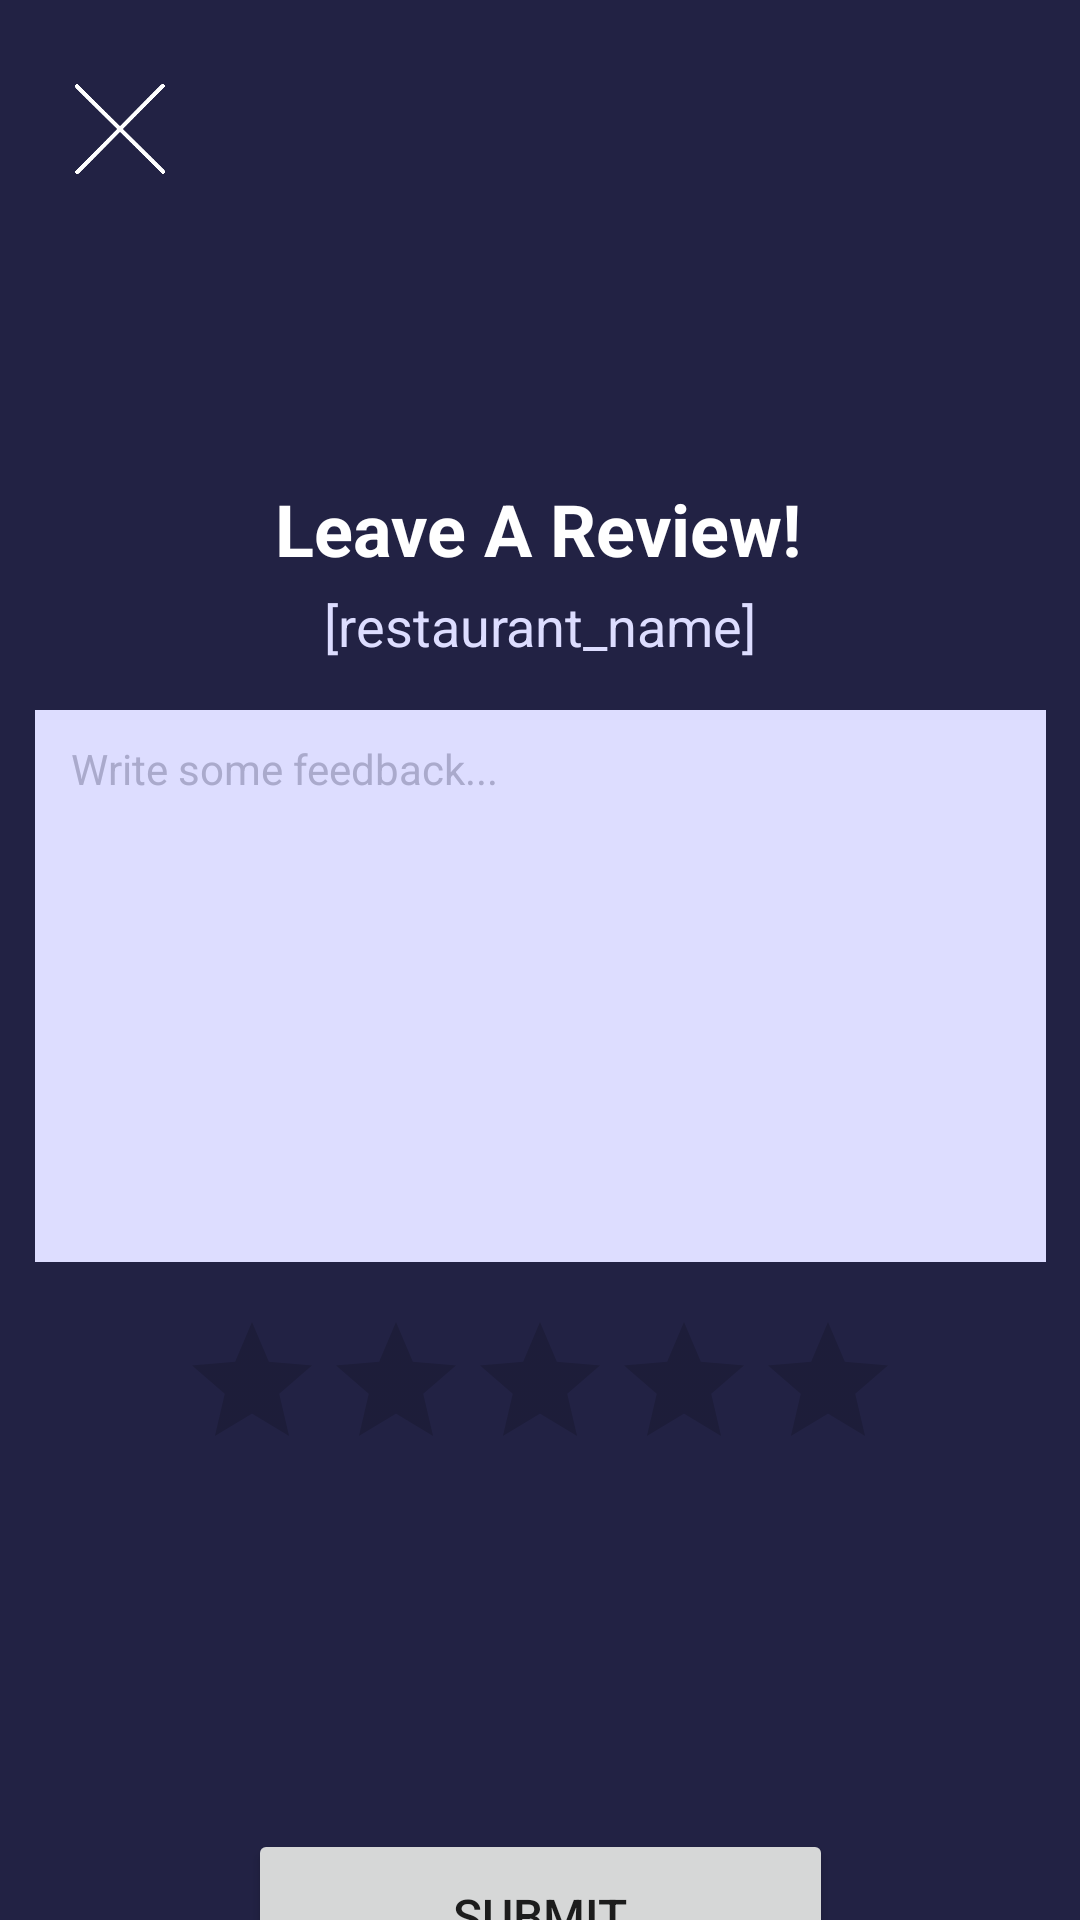

Where icons sit on this 1080px×1920px app screen, as (x1, y1, x2, y2):
cancel: (75, 84, 165, 174)
